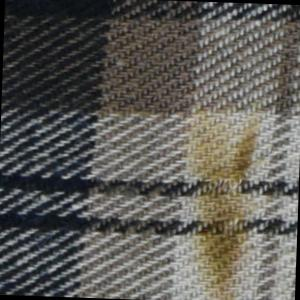Oil Stain: (179, 90, 265, 300)
